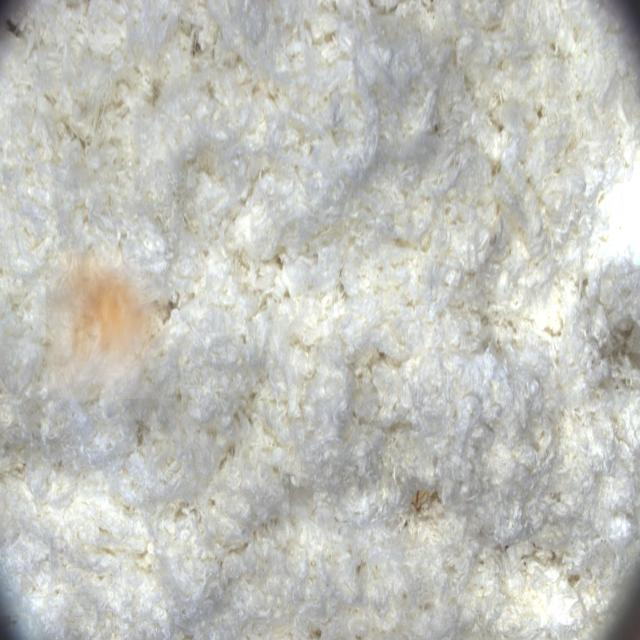dust: (46, 244, 170, 399)
